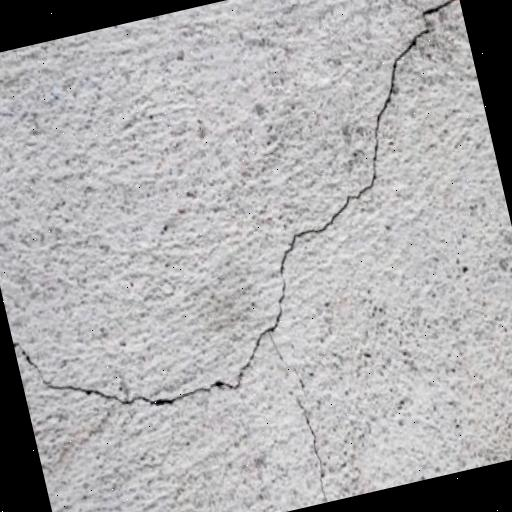spalling: (14, 0, 460, 411)
